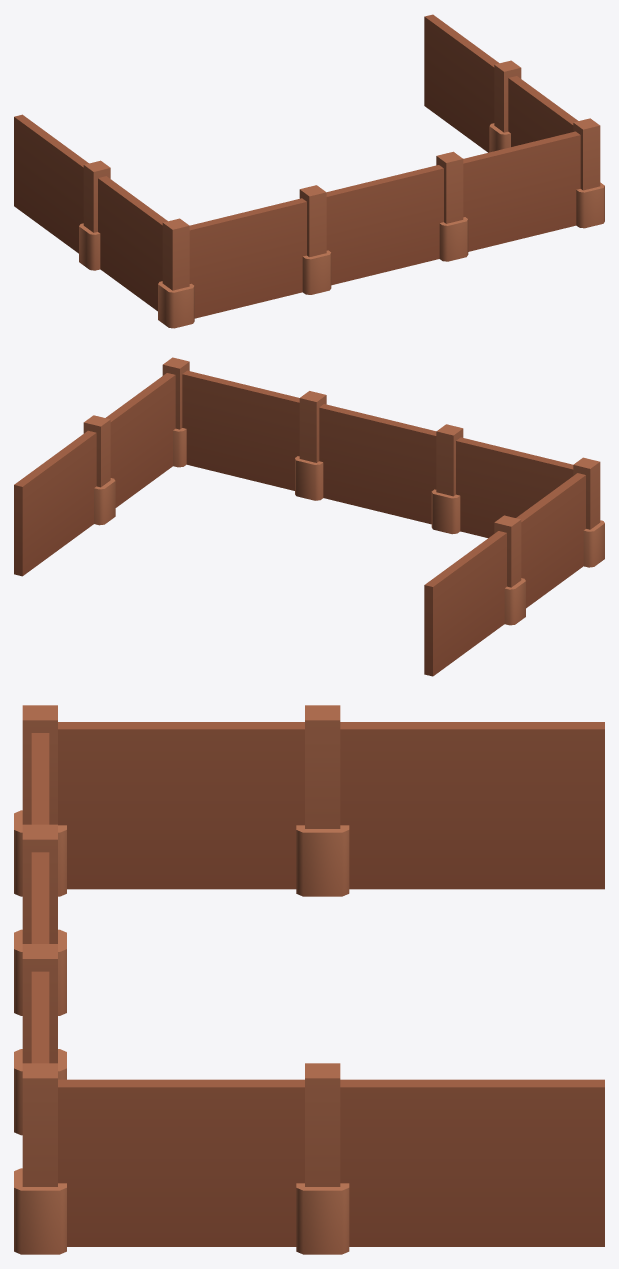
File: fence-2x3.glb
3 renders of one model, top to bottom at view 1: azimuth 30°, elevation 25°; view 2: azimuth 150°, elevation 25°; view 3: azimuth 270°, elevation 25°, orthographic. The views are drawn at different scales.
Visible parts, largest first — view 1: fence-2x3; view 2: fence-2x3; view 3: fence-2x3.
Boxes of the visible parts, <box> form: fence-2x3: <box>14,14,604,328</box>; fence-2x3: <box>14,357,604,676</box>; fence-2x3: <box>14,705,604,1254</box>.
Size of the model in its own units: 1.28 by 0.27 by 0.8375.
